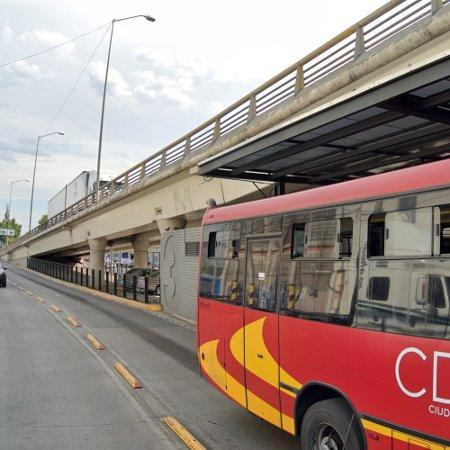buses: (197, 159, 450, 450)
